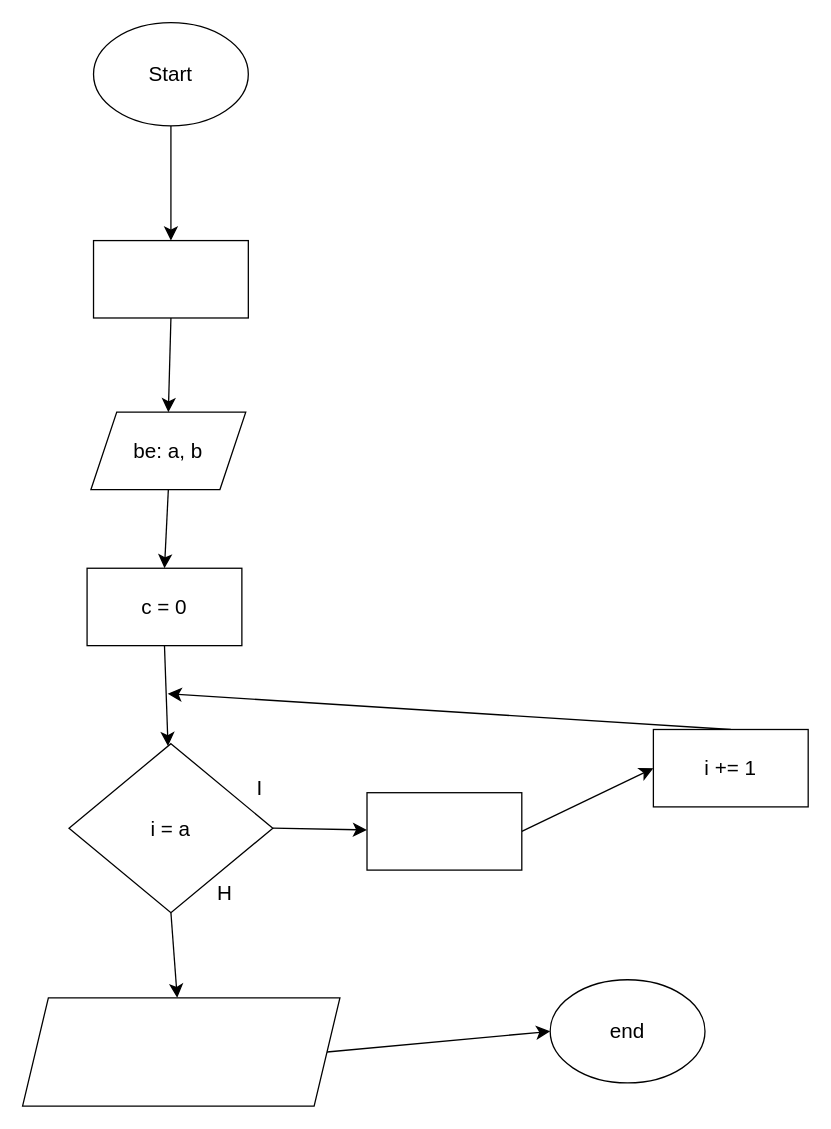
This 831x1129 diagram has some shape labels left out. Each missing label, with the centre of its shape:
c += b: [444,830]
i = 0: [170,278]
Ki: "végeredmény", c: [180,1051]
